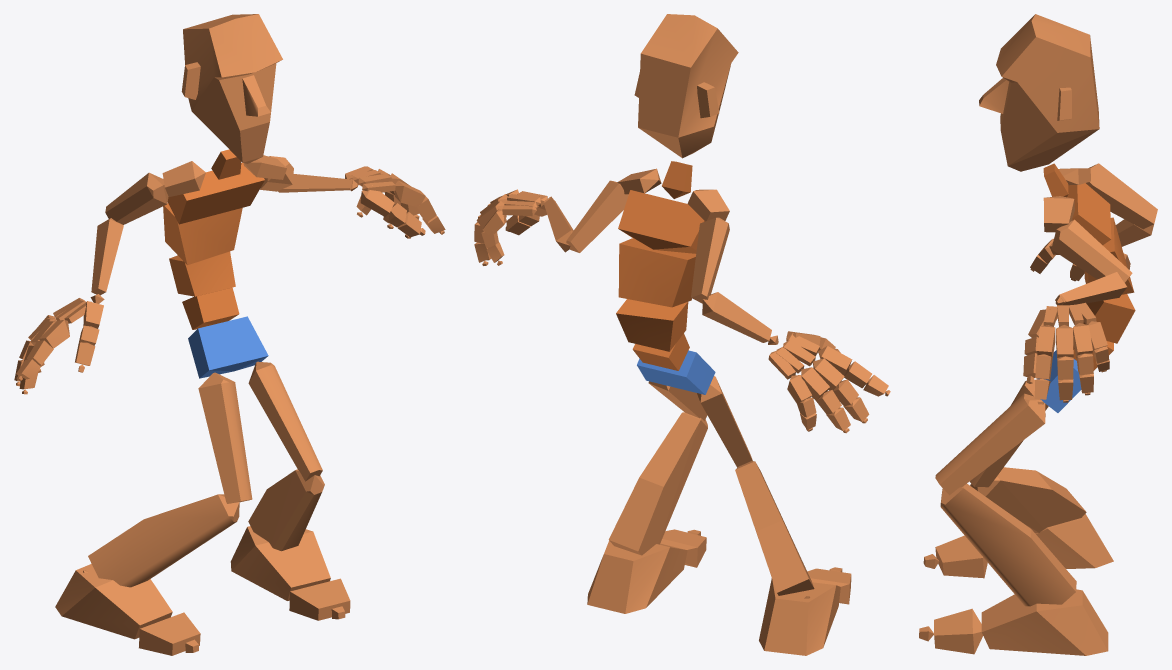
File: prueba37.obj
The picture shows the model from 3 angles, left to right: view 1: azimuth 30°, elevation 25°; view 2: azimuth 150°, elevation 25°; view 3: azimuth 270°, elevation 25°; orthographic projection. The views are drawn at different scales.
Parts seen in each view (by area): view 1: BOPED_Head, BOPED_R_leg, BOPED_R_foot, BOPED_R_foot01, BOPED_R_legup, BOPED_L_leg, Bone01, BOPED_L_legup, Bone04, Bone05, Bone03, BOPED_R_arm_upper (+8 smaller); view 2: BOPED_Head, BOPED_L_leg, BOPED_R_foot01, BOPED_R_foot, BOPED_R_leg, Bone04, Bone05, Bone03, BOPED_R_arm_upper, BOPED_L_arm_upper, BOPED_R_legup, Bone01 (+9 smaller); view 3: BOPED_Head, BOPED_L_leg, BOPED_R_foot01, BOPED_R_leg, BOPED_L_legup, BOPED_R_foot, BOPED_L_arm_upper, BOPED_R_arm_upper, BOPED_R_foot_toe04, Bone05, BOPED_R_foot_toe01, Bone03 (+14 smaller).
Part boxes in pixels (<box>): BOPED_Head: <box>181,14,282,163</box>; BOPED_R_leg: <box>88,494,239,587</box>; BOPED_R_foot: <box>55,564,172,639</box>; BOPED_R_foot01: <box>230,526,330,600</box>; BOPED_R_legup: <box>198,372,252,503</box>; BOPED_L_leg: <box>248,469,324,551</box>; Bone01: <box>188,316,268,378</box>; BOPED_L_legup: <box>248,361,322,481</box>; Bone04: <box>163,203,242,265</box>; Bone05: <box>167,162,264,224</box>; Bone03: <box>169,251,235,296</box>; BOPED_R_arm_upper: <box>105,172,168,224</box>; BOPED_Head: <box>634,14,738,158</box>; BOPED_L_leg: <box>608,412,707,555</box>; BOPED_R_foot01: <box>587,541,687,613</box>; BOPED_R_foot: <box>759,578,840,655</box>; BOPED_R_leg: <box>735,461,814,595</box>; Bone04: <box>618,238,696,307</box>; Bone05: <box>618,190,704,253</box>; Bone03: <box>616,299,688,351</box>; BOPED_R_arm_upper: <box>691,217,729,303</box>; BOPED_L_arm_upper: <box>566,180,628,252</box>; BOPED_R_legup: <box>697,376,752,467</box>; Bone01: <box>637,350,715,394</box>; BOPED_Head: <box>979,14,1099,171</box>; BOPED_L_leg: <box>940,484,1076,606</box>; BOPED_R_foot01: <box>981,589,1108,655</box>; BOPED_R_leg: <box>970,467,1086,533</box>; BOPED_L_legup: <box>935,393,1045,495</box>; BOPED_R_foot: <box>1035,514,1113,568</box>; BOPED_L_arm_upper: <box>1051,219,1132,282</box>; BOPED_R_arm_upper: <box>1086,163,1157,229</box>; BOPED_R_foot_toe04: <box>934,608,983,654</box>; Bone05: <box>1067,183,1111,245</box>; BOPED_R_foot_toe01: <box>935,535,987,578</box>; Bone03: <box>1083,294,1135,343</box>.
Bounding box in the file's own units: 130 × 171 × 62.33.
